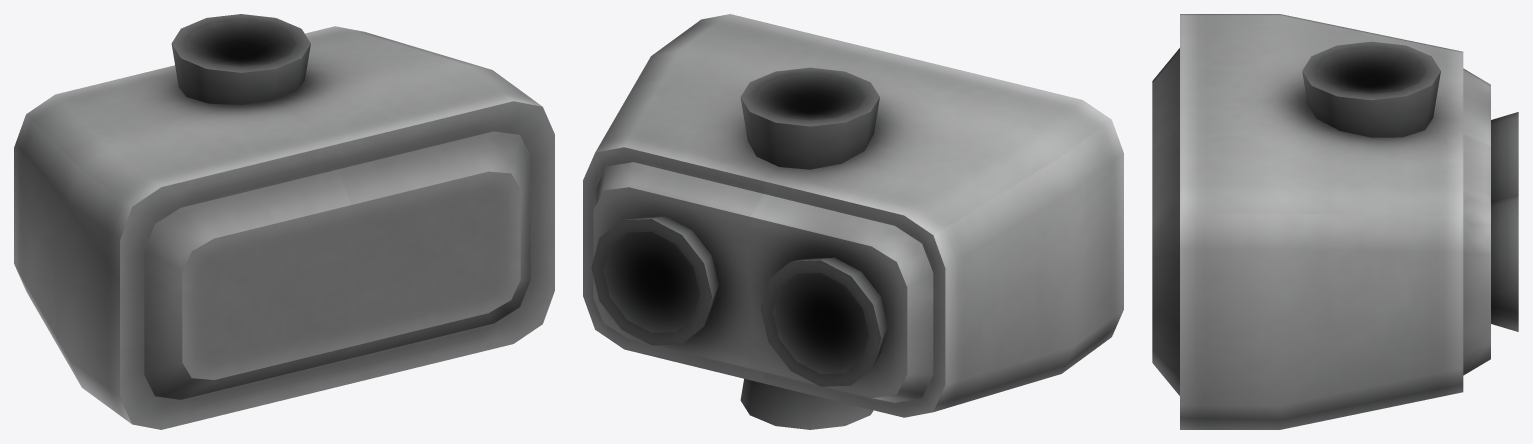
File: Tantares_MOE_3_E.obj
The picture shows the model from 3 angles, left to right: view 1: azimuth 30°, elevation 25°; view 2: azimuth 150°, elevation 25°; view 3: azimuth 270°, elevation 25°; orthographic projection.
Visible parts, largest first — view 1: Tantares_MOE_3_E; view 2: Tantares_MOE_3_E; view 3: Tantares_MOE_3_E.
Part boxes in pixels (x1=…): Tantares_MOE_3_E: x1=14, y1=14, x2=554, y2=429; Tantares_MOE_3_E: x1=583, y1=14, x2=1123, y2=429; Tantares_MOE_3_E: x1=1152, y1=14, x2=1518, y2=429.
Size of the model in its own units: 0.225 by 0.15 by 0.165.
